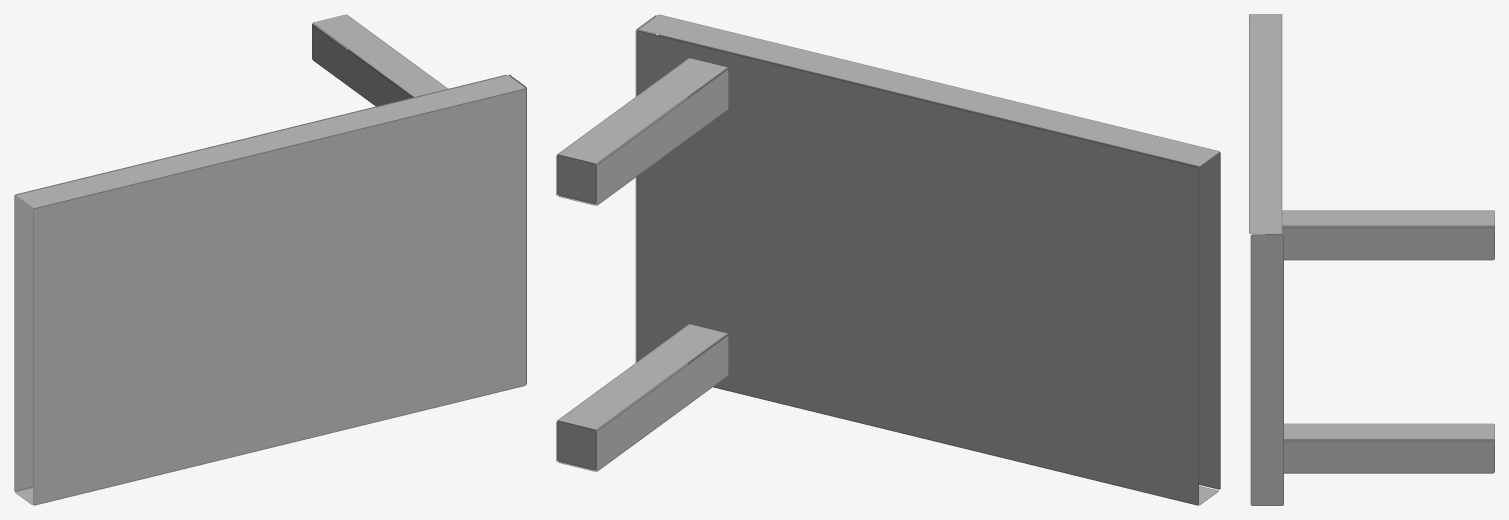
The model's file is pz_benche_seating_indoor_03_wooden_1_0.obj.
3 renders of one model, left to right at view 1: azimuth 30°, elevation 25°; view 2: azimuth 150°, elevation 25°; view 3: azimuth 270°, elevation 25°, orthographic. The views are drawn at different scales.
Bounding box in the file's own units: 0.975 × 0.56 × 0.4593.
1 material, 1 textured.
